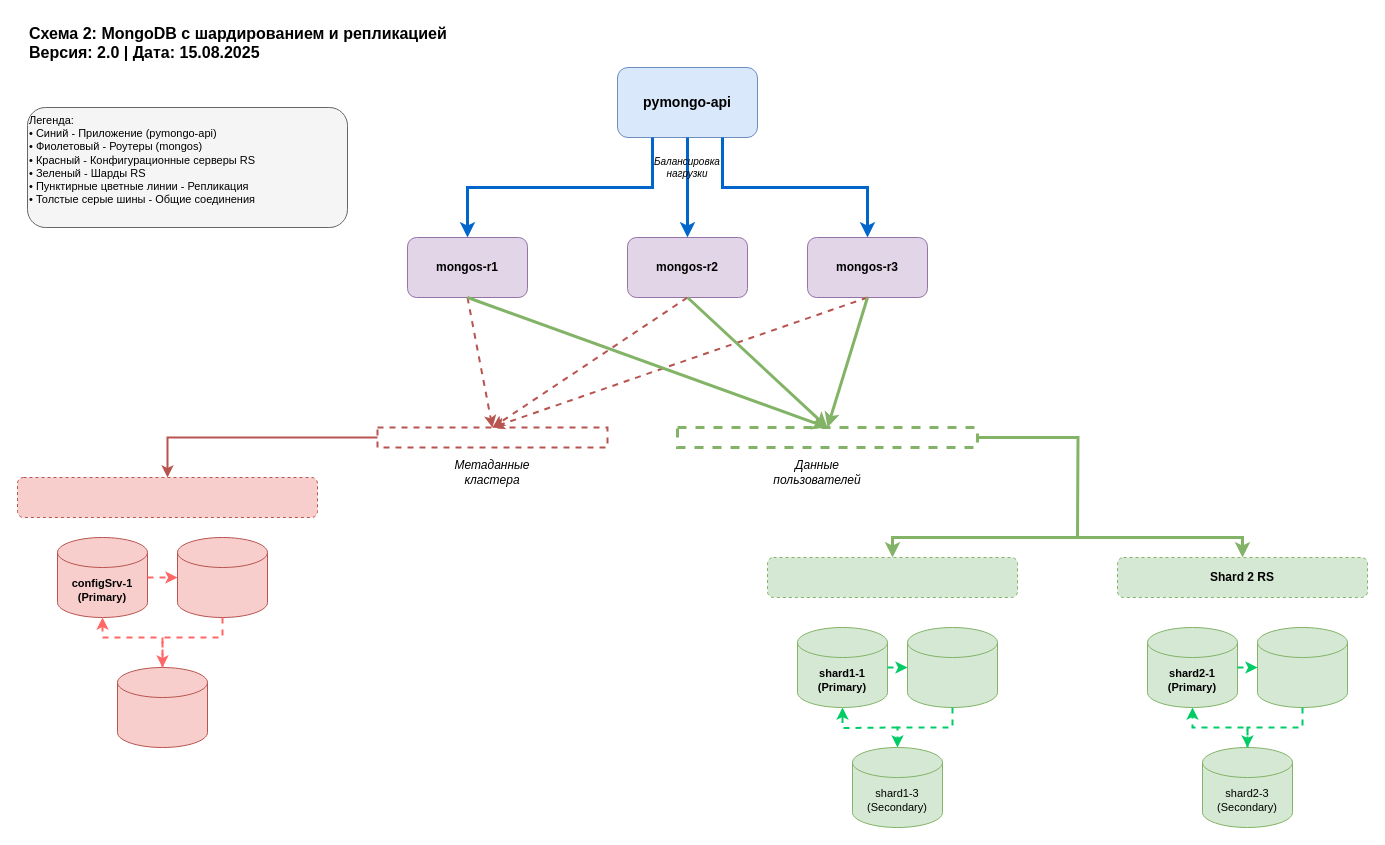
Image size: 1385x845. Some labels were removed from this diagram. Here are the shapes that lost their labels. From the top down, the centre of each, then its label:
(167,497): Config Servers RS
(222,577): configSrv-2 (Secondary)
(892,577): Shard 1 RS
(952,667): shard1-2 (Secondary)
(1302,667): shard2-2 (Secondary)
(162,707): configSrv-3 (Secondary)
